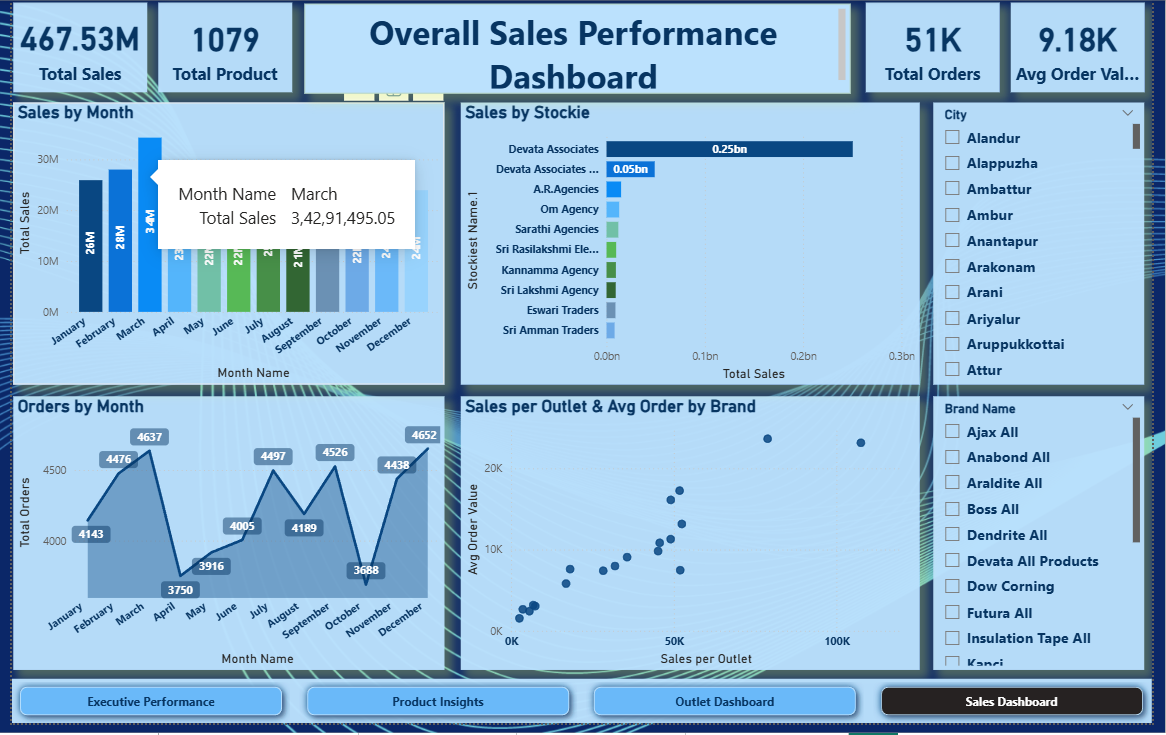

This screenshot's page, from the dashboard's own definition file:
{"tool":"powerbi","page":{"name":"Sales Dashboard","canvas":[1280,812],"ordinal":3},"visuals":[{"type":"card","fields":{"Values":["Fact Table.Total Sales"]},"box":[1.4,2.8,150,100.8],"z":0},{"type":"card","fields":{"Values":["Fact Table.Total Orders"]},"box":[958.2,2.8,150.1,101],"z":1000},{"type":"card","fields":{"Values":["Fact Table.Avg Order Value"]},"box":[1120.9,2.8,150.1,101],"z":2000},{"type":"card","fields":{"Values":["Fact Table.Total Product"]},"box":[164.1,2.8,150.1,101],"z":3000},{"type":"areaChart","title":"Orders by Month","fields":{"Category":["Dim_Date.Month Name"],"Y":["Fact Table.Total Orders"]},"box":[1.4,444.6,484.4,307.4],"z":4000},{"type":"slicer","fields":{"Values":["Fact Table.City"]},"box":[1033.9,115,237.1,317.1],"z":5000},{"type":"slicer","fields":{"Values":["Fact Table.Brand Name"]},"box":[1033.9,444.7,237.1,307.2],"z":6000},{"type":"scatterChart","title":"Sales per Outlet & Avg Order by Brand","fields":{"Category":["Fact Table.Brand Name"],"X":["Fact Table.Sales per Outlet"],"Y":["Fact Table.Avg Order Value"]},"box":[503.6,444.7,514.9,307.2],"z":7000},{"type":"columnChart","title":"Sales by Month","fields":{"Category":["Dim_Date.Month Name"],"Y":["Fact Table.Total Sales"],"Series":["Dim_Date.Month Name"]},"box":[1.4,115.3,484.4,317],"z":8000},{"type":"barChart","title":"Sales by Stockie","fields":{"Y":["Fact Table.Total Sales"],"Category":["Fact Table.Stockiest Name.1"],"Series":["Fact Table.Stockiest Name.1"]},"box":[503.6,115,514.9,317.1],"z":9000},{"type":"pageNavigator","box":[0,761.8,1279.5,50.5],"z":10000},{"type":"textbox","box":[328.3,4.2,613.1,101],"z":11000}]}

Visuals, with their boxes in screenshot pixels (x1, y1, x2, y2), scaled from the page's 1280x812 canvas onto the 1166x735 screenshot:
card - Fact Table.Total Sales: bbox=[1, 3, 138, 94]
card - Fact Table.Total Orders: bbox=[873, 3, 1010, 94]
card - Fact Table.Avg Order Value: bbox=[1021, 3, 1158, 94]
card - Fact Table.Total Product: bbox=[149, 3, 286, 94]
"Orders by Month" areaChart: bbox=[1, 402, 443, 681]
slicer - Fact Table.City: bbox=[942, 104, 1158, 391]
slicer - Fact Table.Brand Name: bbox=[942, 403, 1158, 681]
"Sales per Outlet & Avg Order by Brand" scatterChart: bbox=[459, 403, 928, 681]
"Sales by Month" columnChart: bbox=[1, 104, 443, 391]
"Sales by Stockie" barChart: bbox=[459, 104, 928, 391]
pageNavigator: bbox=[0, 690, 1165, 734]
textbox: bbox=[299, 4, 858, 95]
